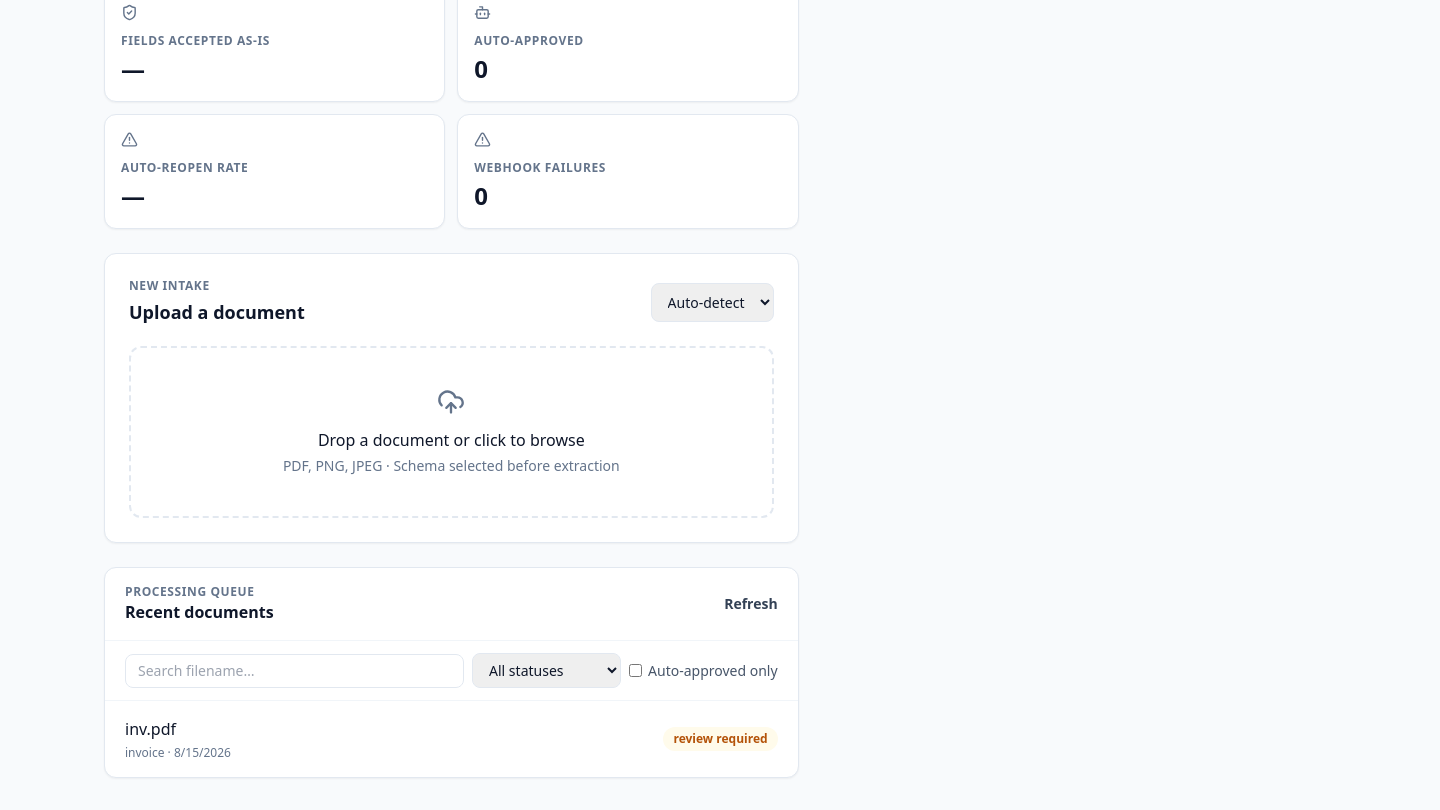
Test case: audit trail › shows audit entries for the selected document
This screenshot has width=1440, height=810.
(page scrolled)
Click the text "inv.pdf": (150, 729) [125,718,176,740]
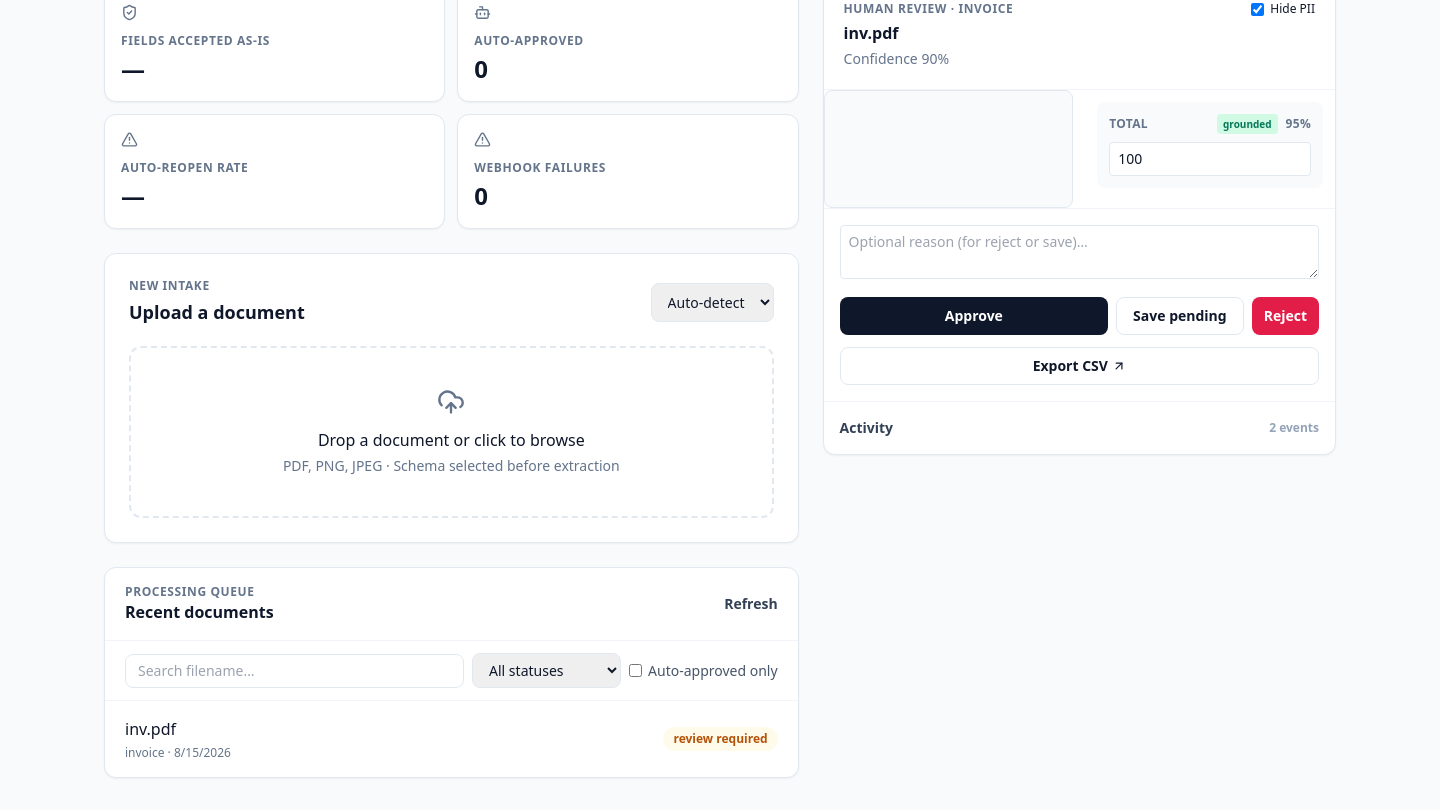
Now the button "Activity 2 events" is shown
Click the button "Activity 2 events": (866, 428) [840,418,1319,438]
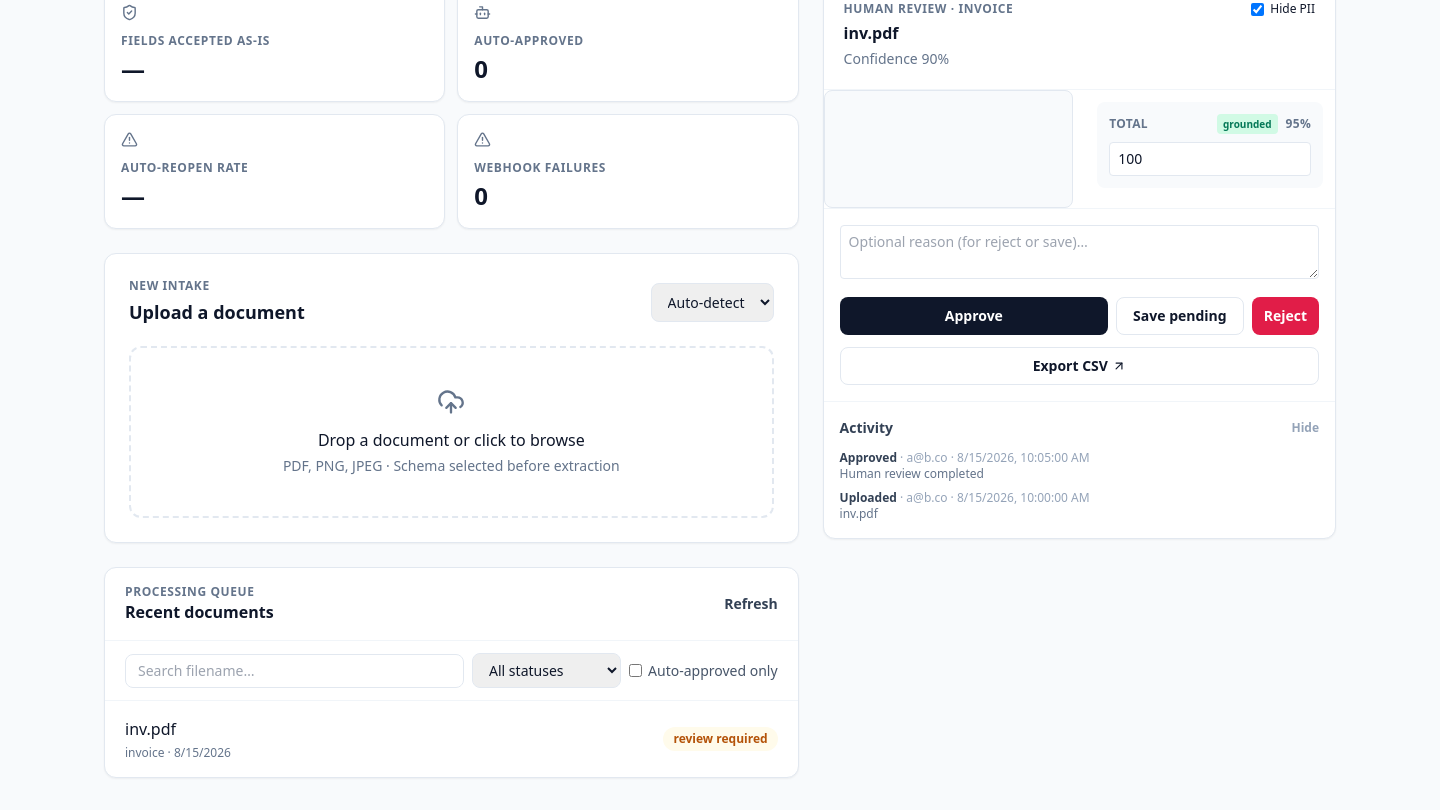
Now the text "Human review completed" is shown, box [840,465,984,482]
